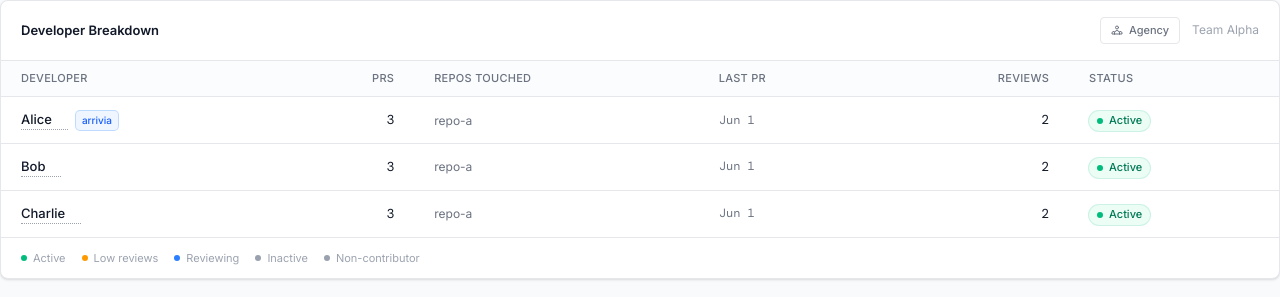
Test: MemberTable › agency filter dropdown › hides unlabelled members when any agency filter is active
The width and height of the screenshot is (1280, 297).
Click the button "Agency" at [1140, 30], box [1100,17,1180,44]
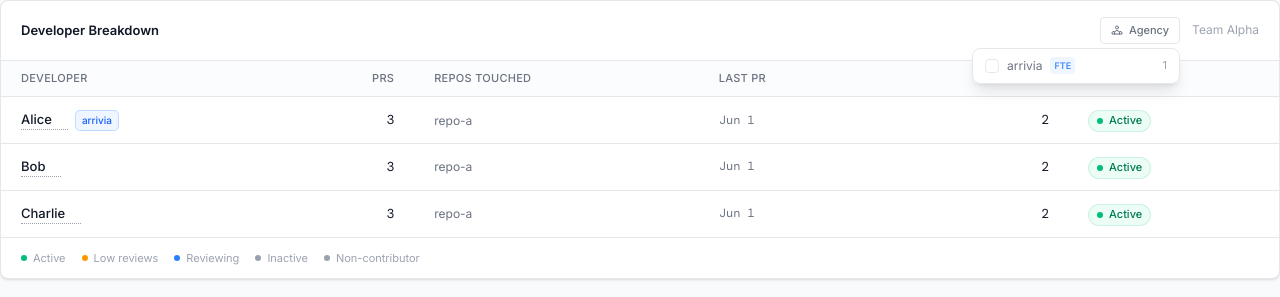
Click the menu item "arrivia FTE 1" at [1076, 66], box [973,48,1179,82]
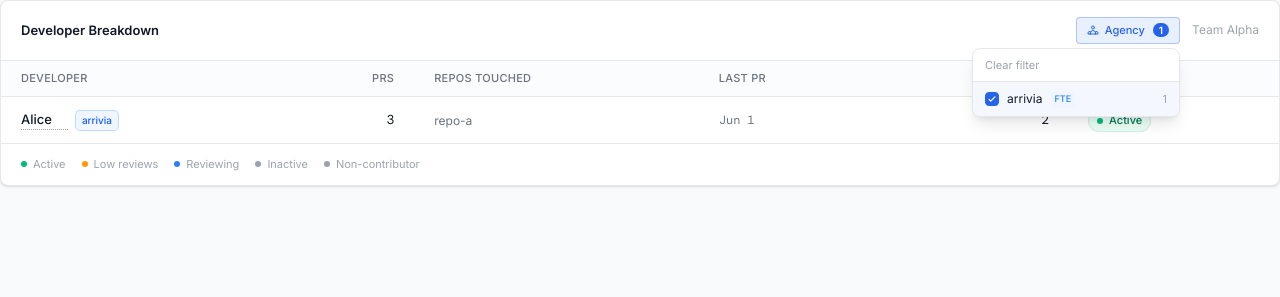
Check: the button "Bob" is gone
Check: the button "Charlie" is gone
